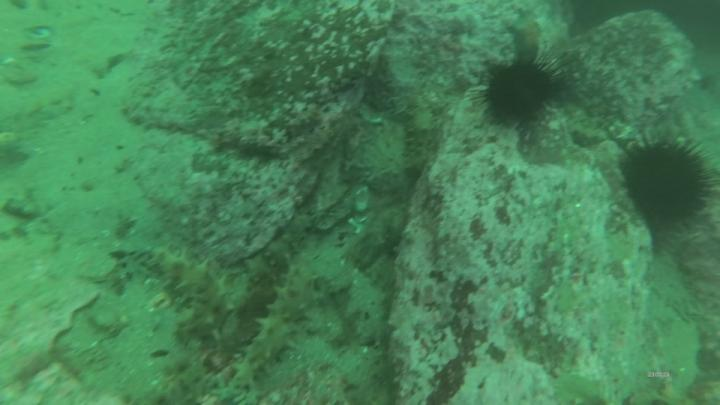echinus: (629, 142, 708, 224), (487, 63, 552, 124)
holothurian: (239, 269, 313, 377), (152, 251, 231, 338), (399, 95, 441, 173)
starfish: (510, 13, 541, 51)
